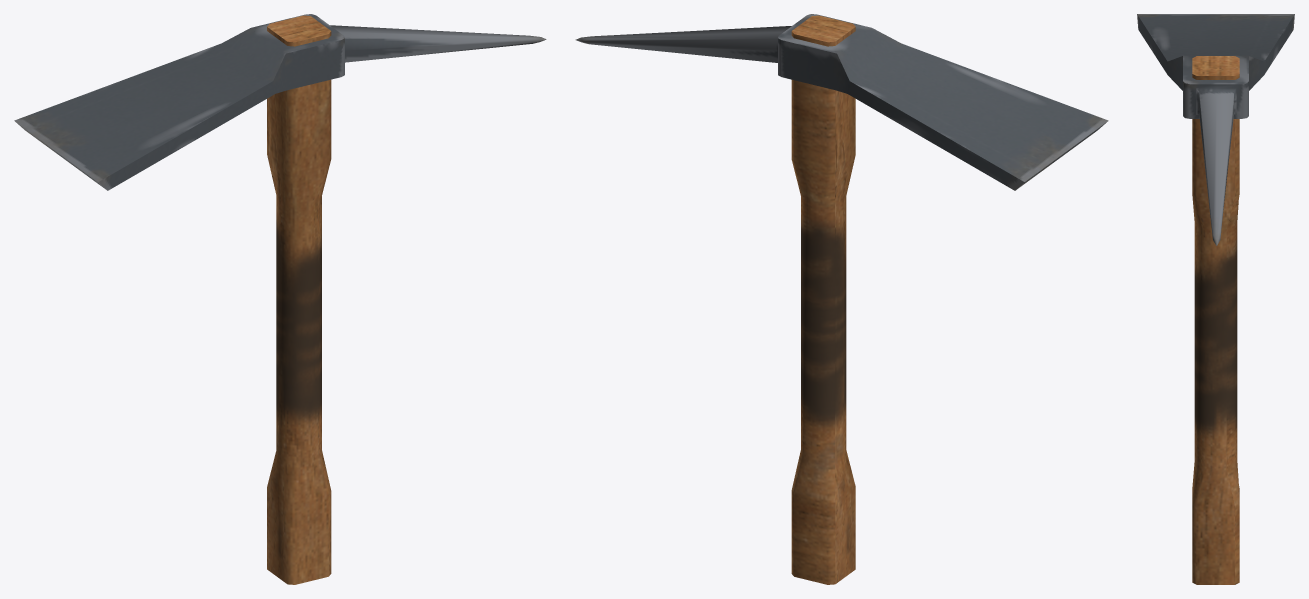
File: FarmEquip_PickMattock.fbx
3 renders of one model, left to right at view 1: azimuth 30°, elevation 25°; view 2: azimuth 150°, elevation 25°; view 3: azimuth 270°, elevation 25°, orthographic. The views are drawn at different scales.
Parts seen in each view (by area): view 1: FarmEquip_PickMattock; view 2: FarmEquip_PickMattock; view 3: FarmEquip_PickMattock.
Boxes of the visible parts, x1=… form: FarmEquip_PickMattock: x1=14, y1=14, x2=546, y2=584; FarmEquip_PickMattock: x1=575, y1=14, x2=1108, y2=584; FarmEquip_PickMattock: x1=1137, y1=14, x2=1294, y2=584.
Size of the model in its own units: 0.3757 by 0.3966 by 0.1115.
